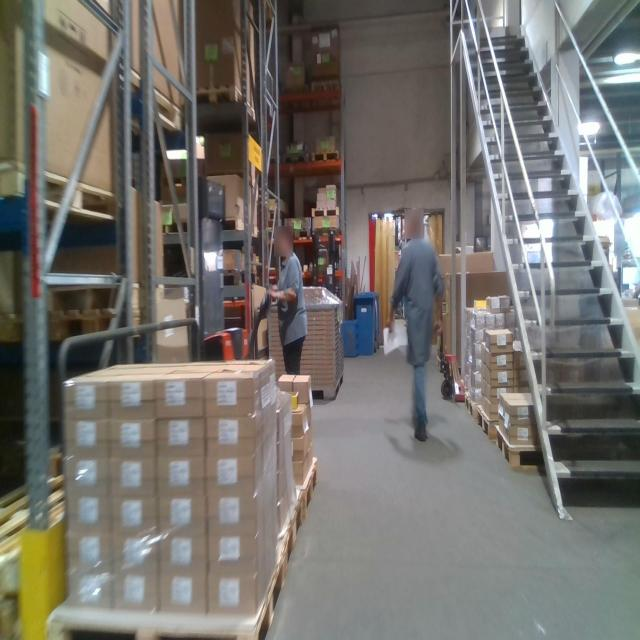pallet: (46, 538, 284, 636), (2, 155, 122, 224), (1, 314, 161, 360), (35, 274, 159, 309), (195, 77, 259, 118), (496, 423, 549, 471), (284, 487, 306, 579), (293, 457, 320, 521), (213, 213, 261, 238), (154, 212, 199, 238), (216, 266, 260, 288), (477, 400, 495, 443), (311, 79, 342, 98), (310, 148, 340, 165), (281, 150, 310, 167), (311, 205, 343, 219), (282, 228, 311, 242), (466, 392, 476, 419)
pallet_truck: (208, 275, 284, 367), (435, 293, 471, 409), (311, 224, 353, 297)
stillage: (262, 295, 349, 404)
